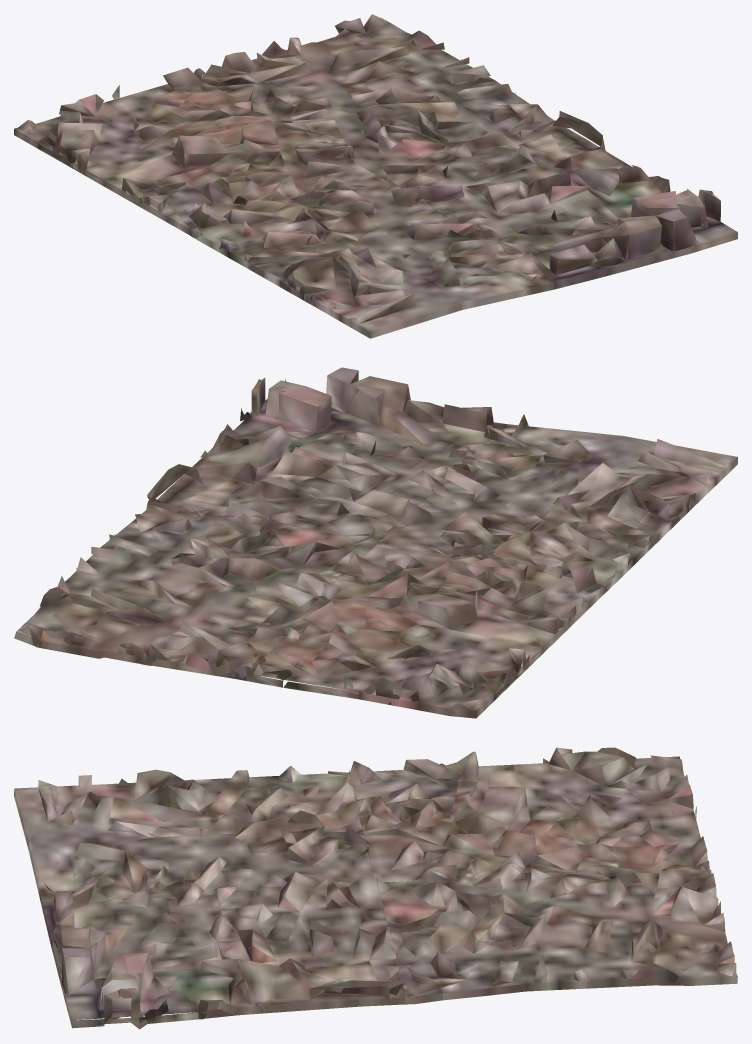
3 renders of one model, top to bottom at view 1: azimuth 30°, elevation 25°; view 2: azimuth 150°, elevation 25°; view 3: azimuth 270°, elevation 25°, orthographic. The views are drawn at different scales.
Visible parts, largest first — view 1: Mesh_0; view 2: Mesh_0; view 3: Mesh_0.
Part boxes in pixels (left/top/right/bottom): Mesh_0: left=14, top=14, right=737, bottom=338; Mesh_0: left=14, top=367, right=737, bottom=718; Mesh_0: left=14, top=747, right=737, bottom=1029.
Bounding box in the file's own units: 532 × 64.06 × 659.
Materials: 2 (2 with a texture image).
